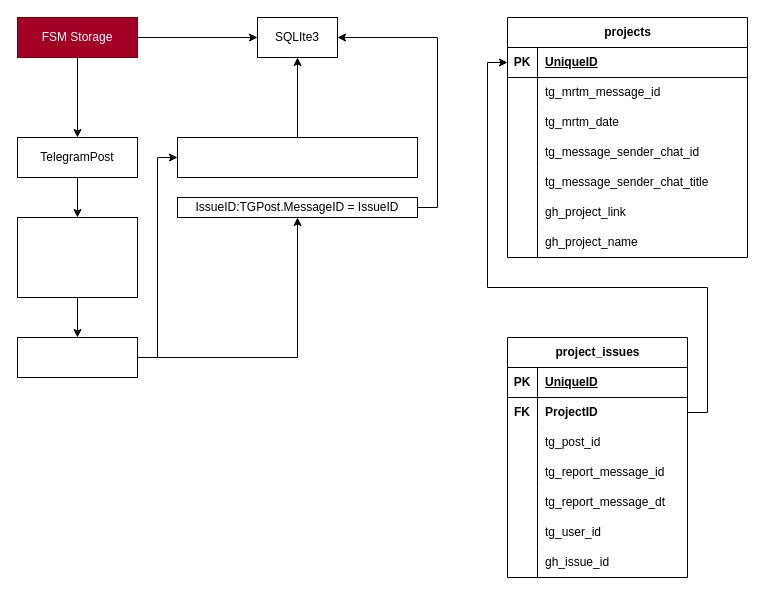
The diagram is 765 pixels wide and 595 high, and some of its shapes have lost their labels. Here are the shapes that lost their labels. From the top down, the centre of each, then its label:
(x=297, y=157): Reports:TGPost.MessageID = { "TGUserName / ID": TGMessageDate }
(x=77, y=257): /report - TGPost. MessageID - TGUserName / ID - TGMessageDate
(x=77, y=357): PyGithub.create() - IssueID
